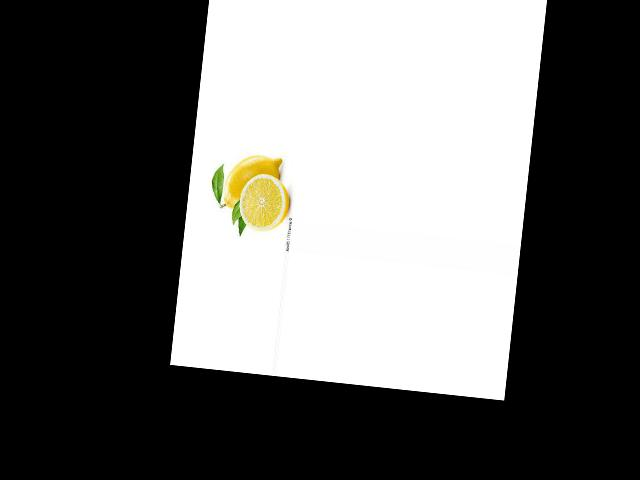lemon: (215, 144, 290, 222)
